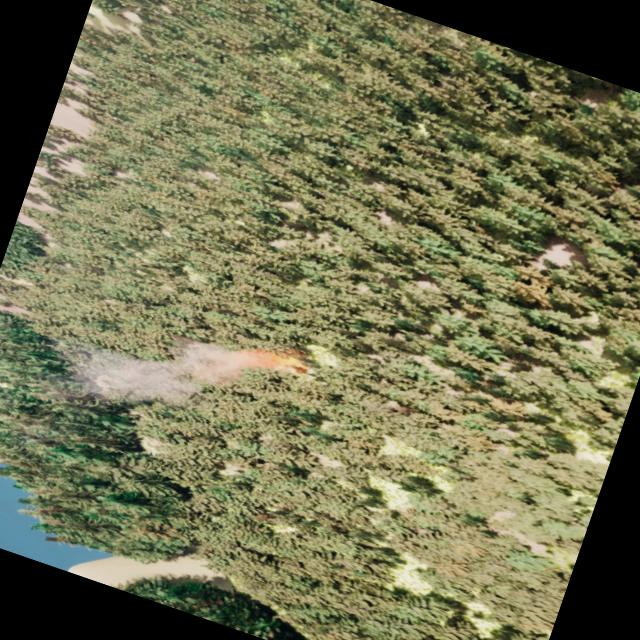fire: (256, 336, 314, 381)
smoke: (47, 292, 265, 455)
